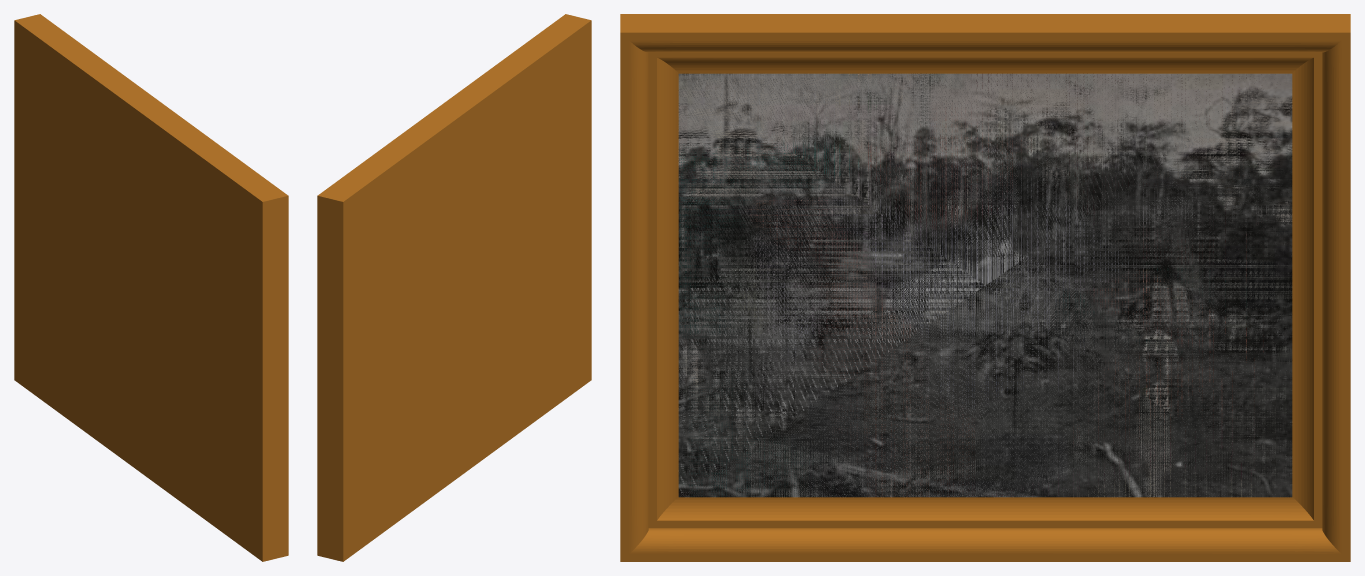
The model's file is bapak.glb.
The picture shows the model from 3 angles, left to right: view 1: azimuth 30°, elevation 25°; view 2: azimuth 150°, elevation 25°; view 3: azimuth 270°, elevation 25°; orthographic projection. The views are drawn at different scales.
Parts seen in each view (by area): view 1: frame.001, back panel.001; view 2: frame.001, back panel.001; view 3: kebon, WhatsApp Image 2023-04-01 at 22.36.26, back panel.001, WhatsApp Image 2023-04-01 at 22.36.27, WhatsApp Image 2023-04-01 at 22.36.28, frame.001.
Part boxes in pixels (left/top/right/bottom): frame.001: left=14, top=18, right=271, bottom=561; back panel.001: left=23, top=14, right=288, bottom=559; frame.001: left=334, top=18, right=591, bottom=561; back panel.001: left=317, top=14, right=582, bottom=559; kebon: left=678, top=73, right=1292, bottom=497; WhatsApp Image 2023-04-01 at 22.36.26: left=678, top=73, right=1292, bottom=497; back panel.001: left=620, top=20, right=1350, bottom=561; WhatsApp Image 2023-04-01 at 22.36.27: left=679, top=73, right=1256, bottom=496; WhatsApp Image 2023-04-01 at 22.36.28: left=679, top=74, right=1266, bottom=496; frame.001: left=620, top=14, right=1350, bottom=73.
Size of the model in its own units: 15 by 200 by 250.
7 materials, 5 textured.
